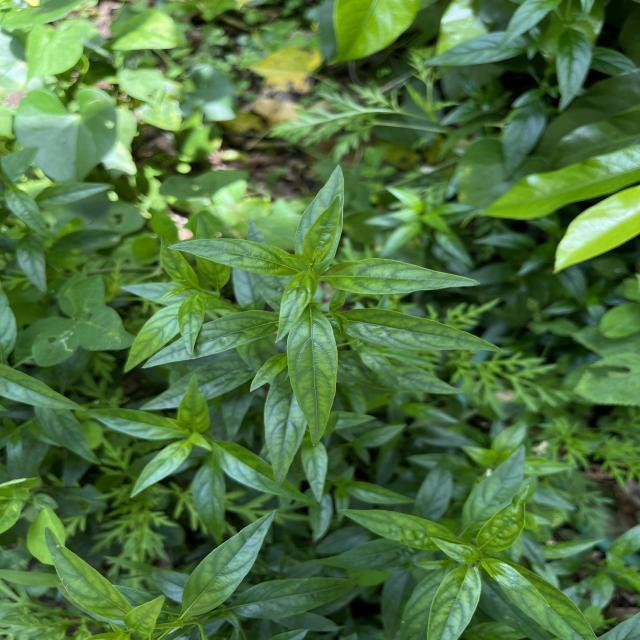Andrographis paniculata: (178, 507, 280, 621), (489, 557, 598, 640), (43, 526, 134, 624), (140, 308, 283, 369), (336, 306, 504, 356), (286, 305, 340, 446), (322, 256, 484, 296), (336, 507, 460, 554), (292, 162, 346, 268), (262, 373, 307, 490), (166, 238, 292, 278), (128, 438, 193, 500), (83, 406, 187, 441), (273, 269, 319, 344)
